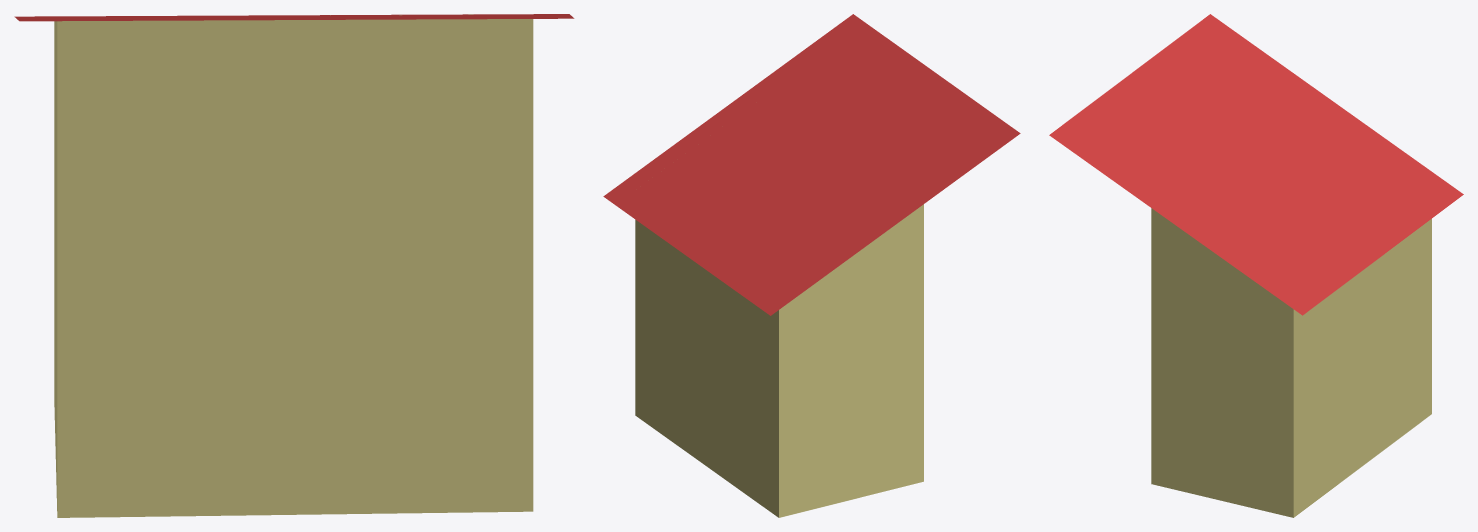
3 renders of one model, left to right at view 1: azimuth 30°, elevation 25°; view 2: azimuth 150°, elevation 25°; view 3: azimuth 270°, elevation 25°, orthographic. The views are drawn at different scales.
Size of the model in its own units: 9.14 by 8.83 by 7.89.
